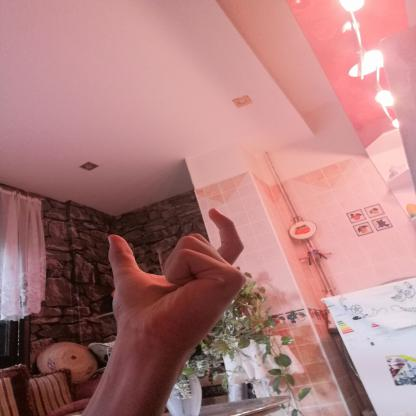NOON: (85, 194, 262, 363)
